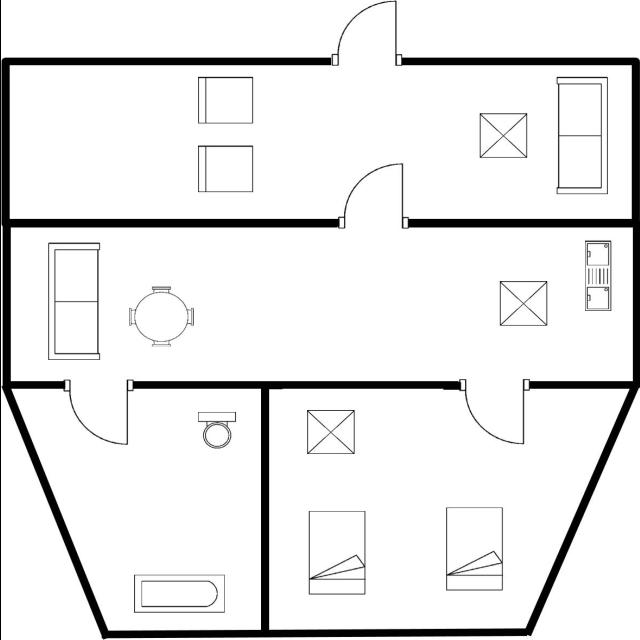bed: (302, 504, 372, 604), (439, 502, 509, 594)
coffee_table: (472, 106, 533, 164), (494, 275, 552, 333), (301, 404, 360, 460)
large_sink: (192, 406, 238, 452)
large_sofa: (40, 236, 104, 366), (552, 70, 612, 200)
round_table: (123, 282, 201, 350)
small_sofa: (192, 72, 258, 128), (192, 140, 256, 196)
tub: (130, 568, 230, 618)
twin_sink: (578, 236, 614, 316)
